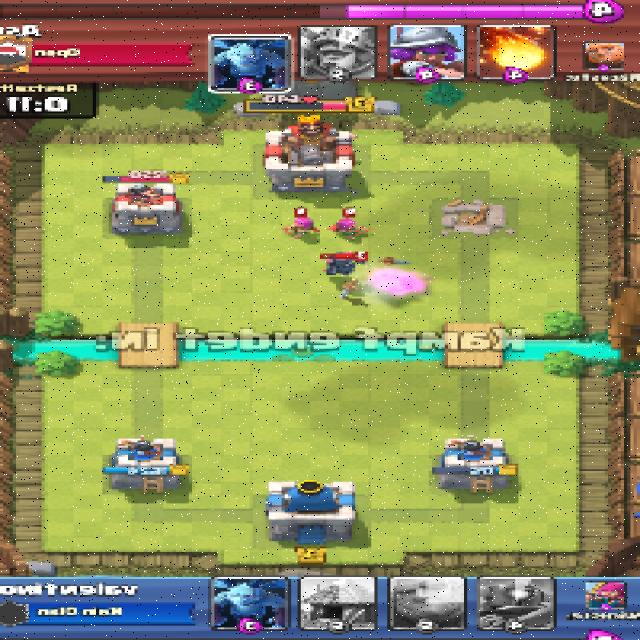Enemy-Archer: (288, 214, 318, 237), (329, 218, 367, 236)
Enemy-MiniPEKKA: (324, 255, 359, 277)
